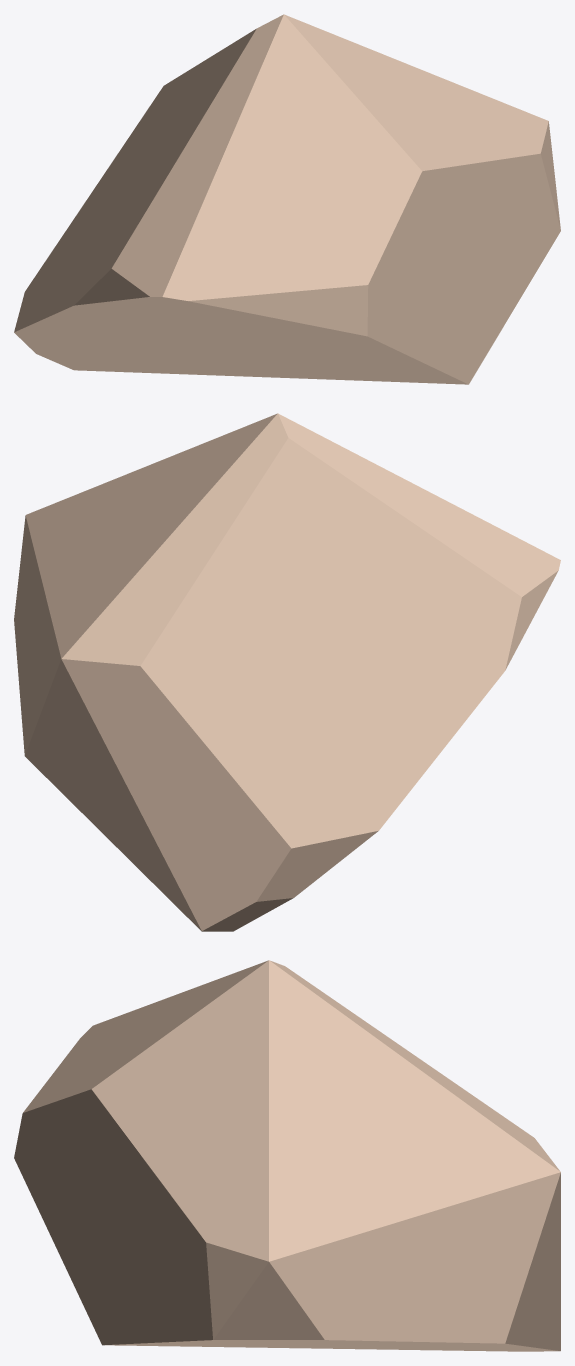
File: rock_08.fbx
3 renders of one model, top to bottom at view 1: azimuth 30°, elevation 25°; view 2: azimuth 150°, elevation 25°; view 3: azimuth 270°, elevation 25°, orthographic. The views are drawn at different scales.
Visible parts, largest first — view 1: rock_08; view 2: rock_08; view 3: rock_08.
Boxes of the visible parts, x1=… form: rock_08: x1=14, y1=14, x2=560, y2=384; rock_08: x1=14, y1=413, x2=560, y2=931; rock_08: x1=14, y1=960, x2=560, y2=1351.
Size of the model in its own units: 54.9 by 46.12 by 52.99.
Materials: 1 (1 with a texture image).
